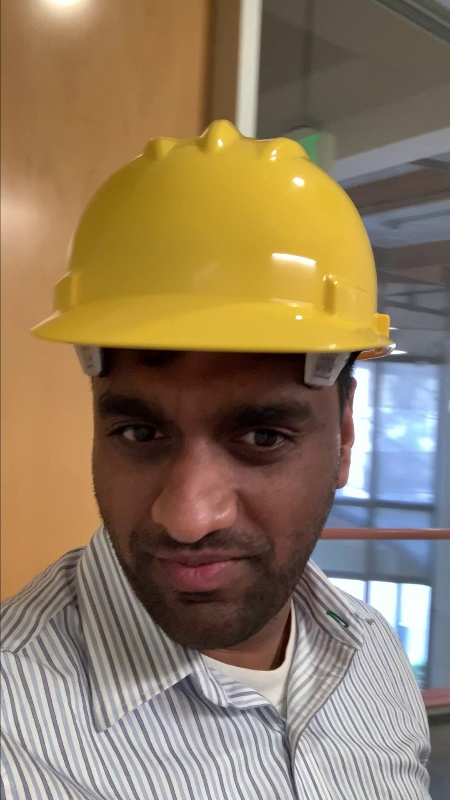helmet: (23, 119, 400, 391)
